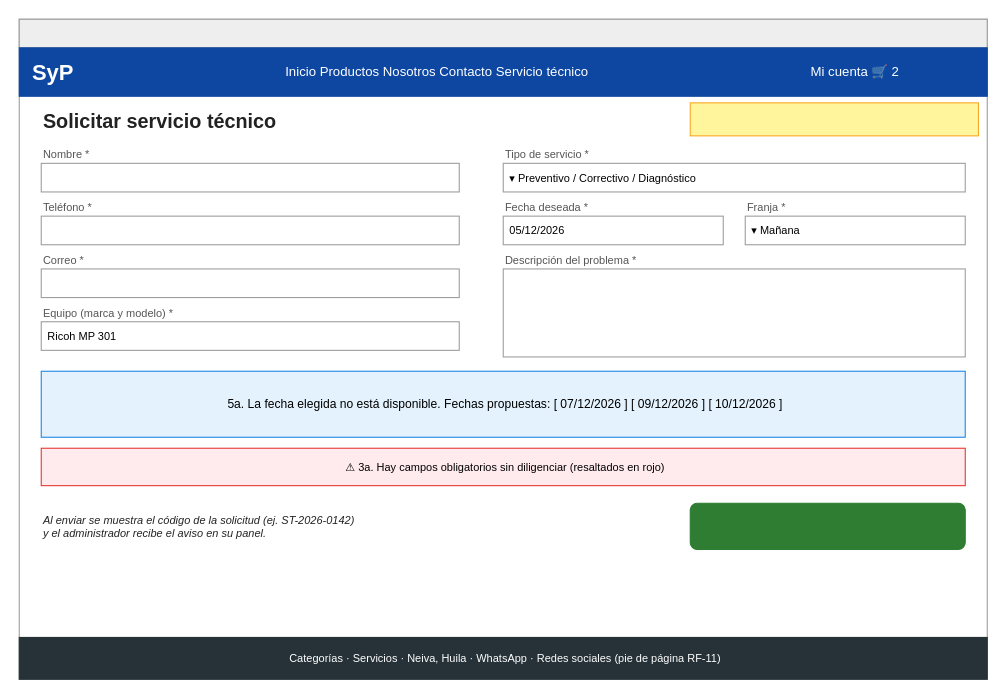
The diagram is 1007 pixels wide and 699 high, and some of its shapes have lost their labels. Here are the shapes that lost their labels. From the top down, the box of each, then its label:
(18, 18, 987, 48): ● ● ● fotocopiadora-syp.onrender.com/servicio-tecnico
(689, 102, 978, 136): P-02 · atiende CU-15 Solicitar servicio técnico
(502, 268, 965, 357): Atasca papel en la bandeja 2 y muestra el código SC...
(689, 502, 965, 549): Enviar solicitud
